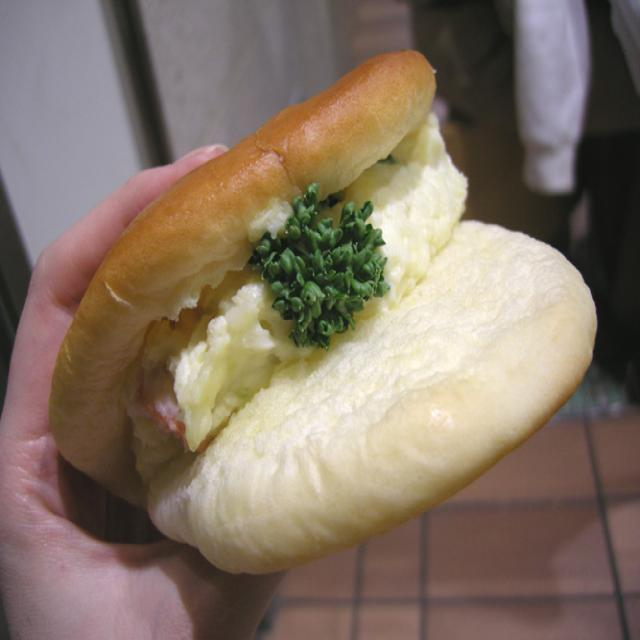三明治: (22, 32, 621, 590)
